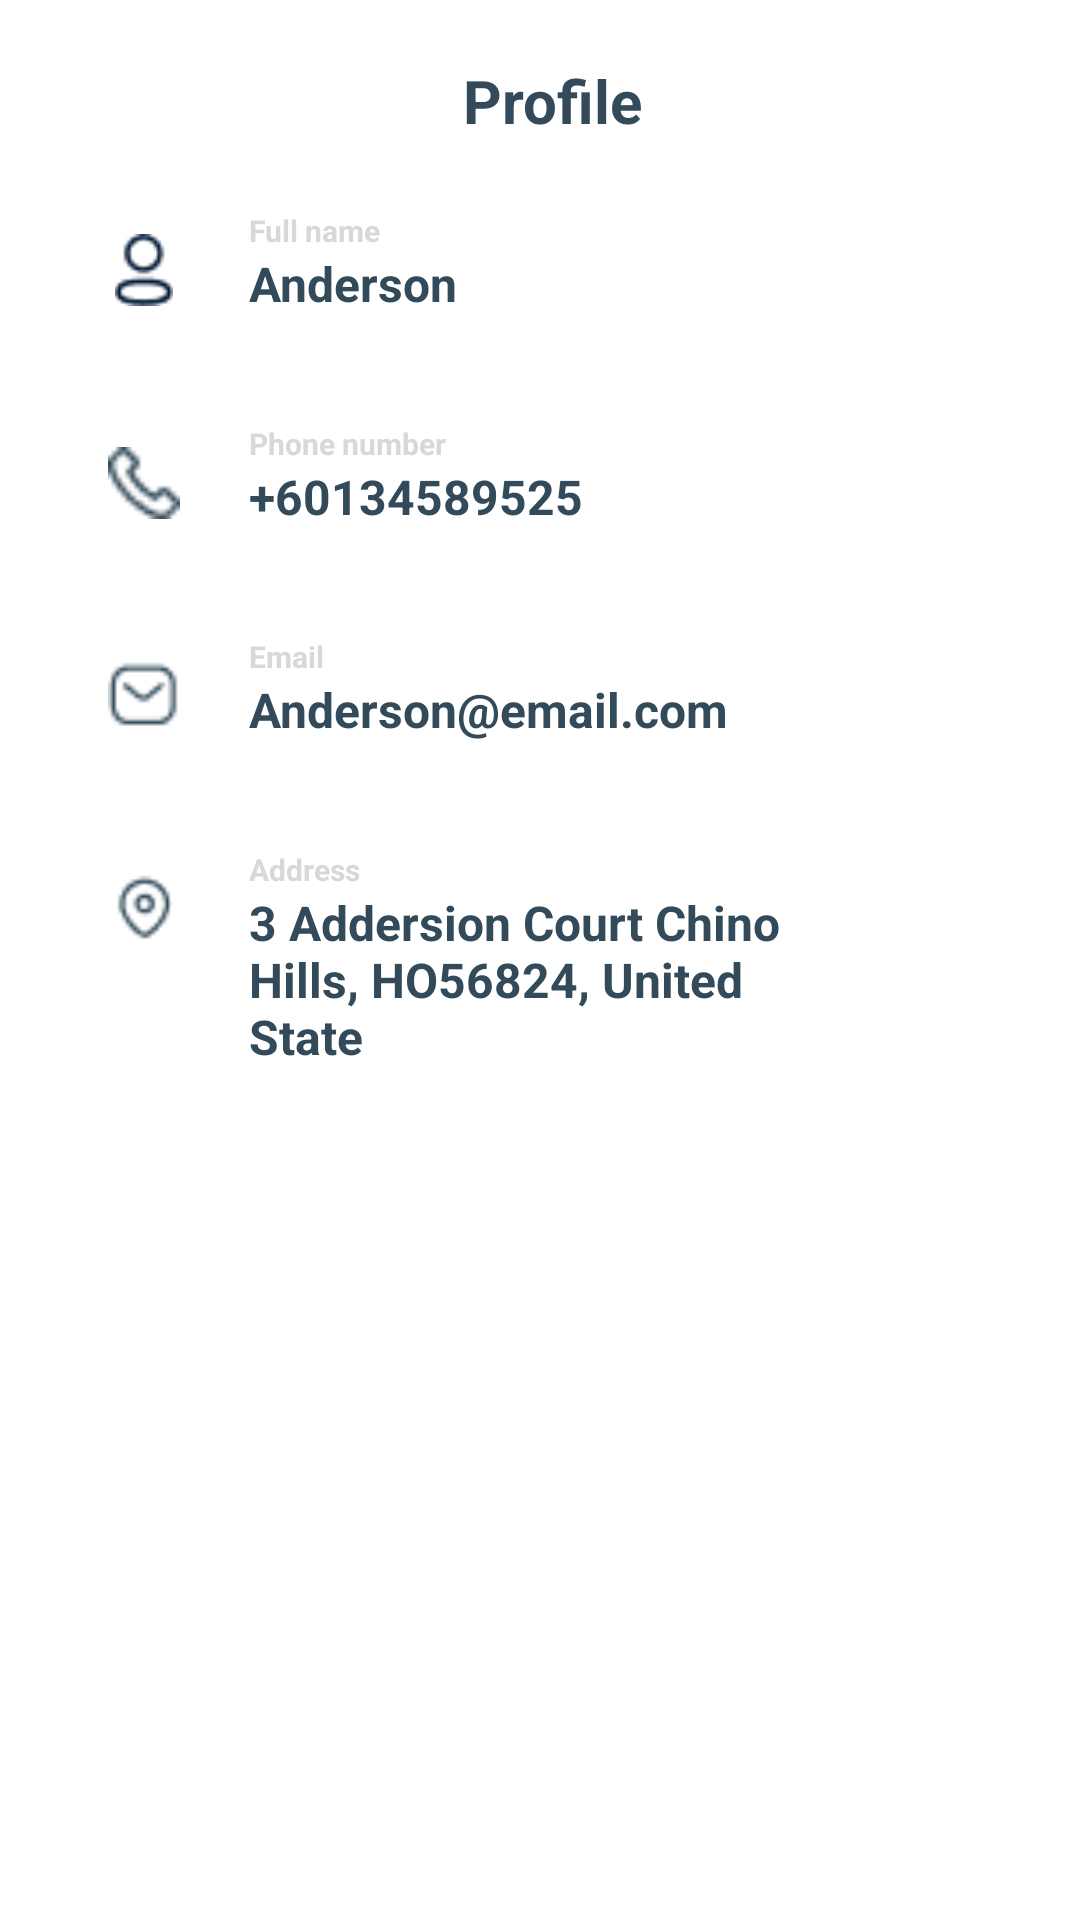

Named icons in this screenshot (1080*1920) and their bounding boxes, (x1, y1, x2, y2):
Username: (115, 234, 173, 306)
